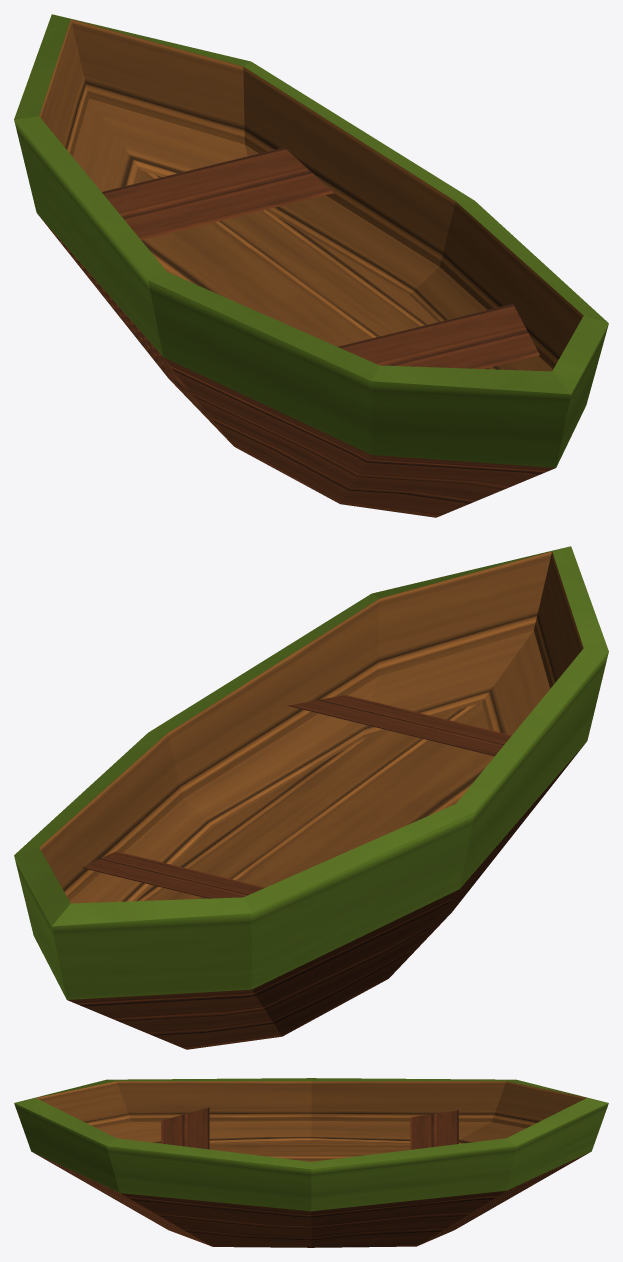
The model's file is co_Boat07.fbx.
The picture shows the model from 3 angles, top to bottom: view 1: azimuth 30°, elevation 25°; view 2: azimuth 150°, elevation 25°; view 3: azimuth 270°, elevation 25°; orthographic projection. The views are drawn at different scales.
Parts seen in each view (by area): view 1: Boat07; view 2: Boat07; view 3: Boat07.
Boxes of the visible parts, x1,y1,x2,y2 form: Boat07: (14, 14, 608, 517); Boat07: (14, 546, 608, 1049); Boat07: (14, 1078, 608, 1247).
Bounding box in the file's own units: 822 × 560 × 2262.
